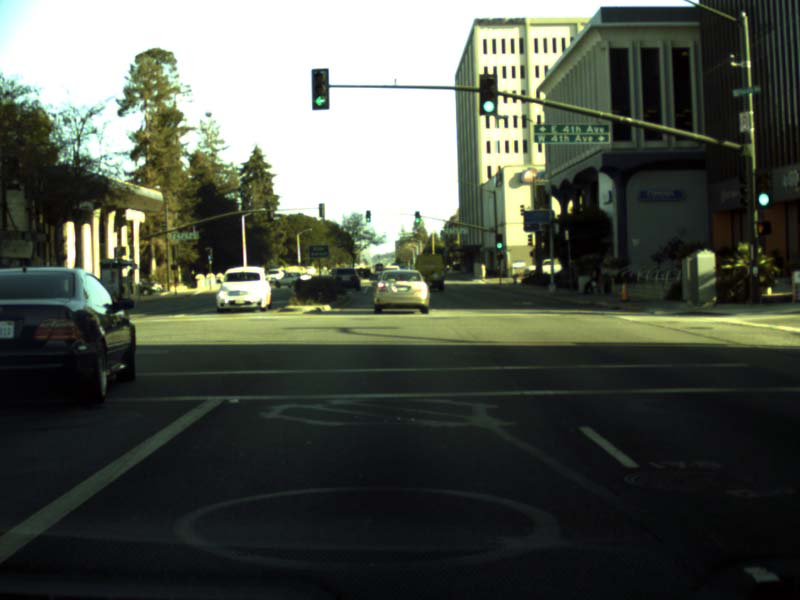Green: (479, 74, 497, 115), (755, 167, 773, 208), (311, 69, 329, 108), (494, 233, 503, 249), (414, 211, 420, 223), (365, 210, 370, 222)
